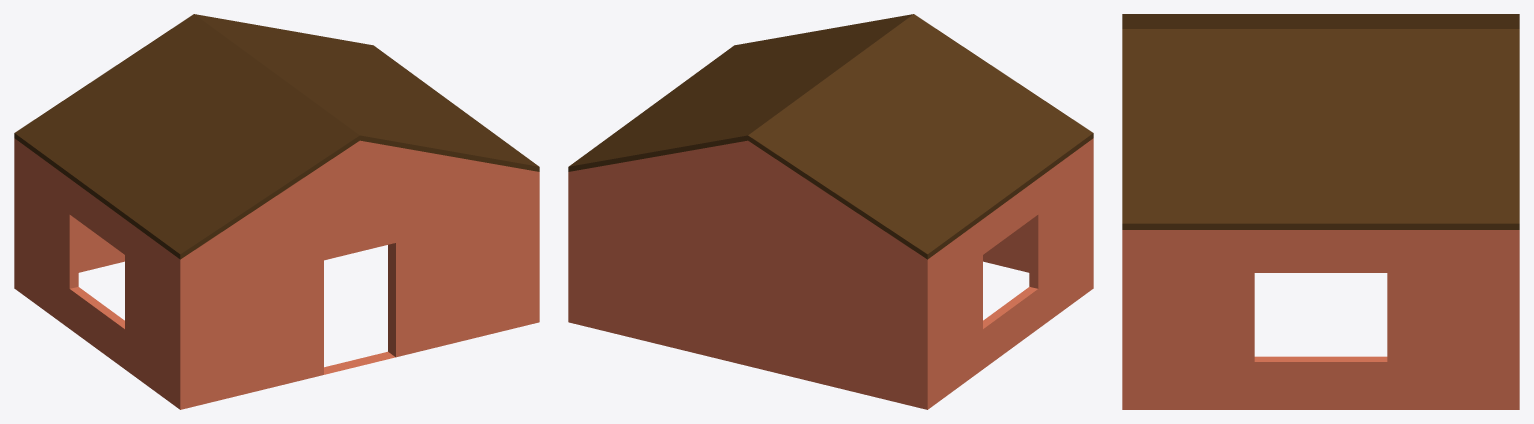
File: player_house_exterior.fbx
The picture shows the model from 3 angles, left to right: view 1: azimuth 30°, elevation 25°; view 2: azimuth 150°, elevation 25°; view 3: azimuth 270°, elevation 25°; orthographic projection. The views are drawn at different scales.
Visible parts, largest first — view 1: house-col; view 2: house-col; view 3: house-col.
Part boxes in pixels (x1=…): house-col: x1=14, y1=14, x2=539, y2=409; house-col: x1=568, y1=14, x2=1093, y2=409; house-col: x1=1122, y1=14, x2=1519, y2=409.
Size of the model in its own units: 160 by 98.22 by 128.
